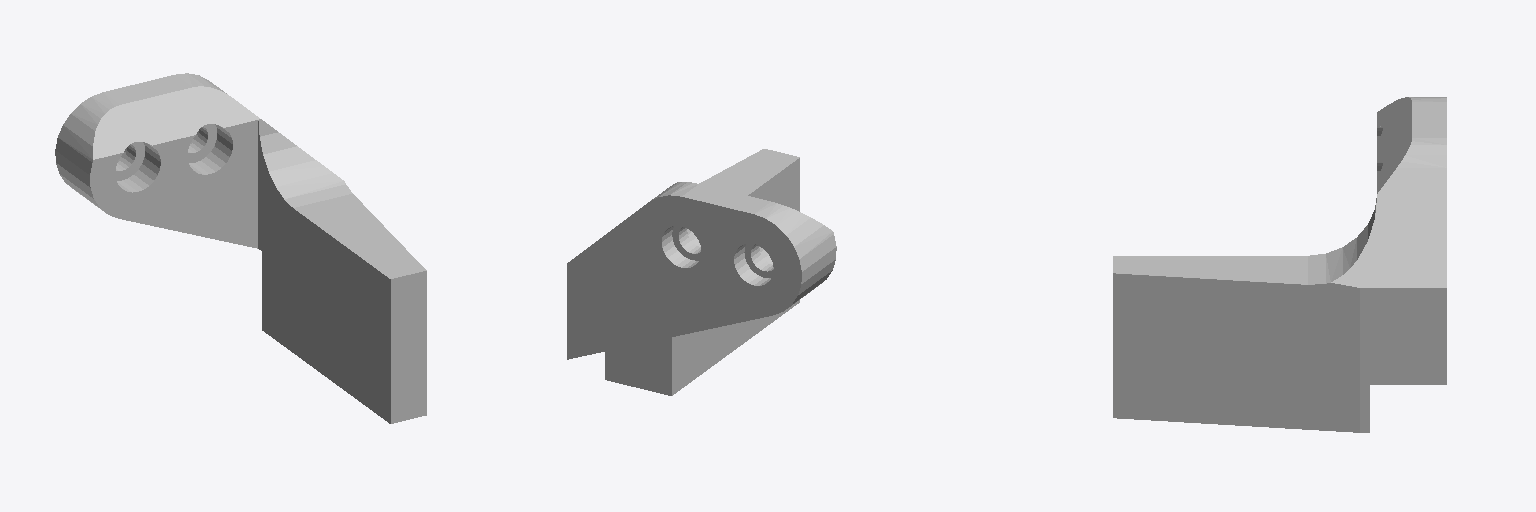
The model's file is wr_finger_right_CRG200_base_jaw_Greifensatz_Greifensatz.obj.
The picture shows the model from 3 angles: view 1: azimuth 30°, elevation 25°; view 2: azimuth 150°, elevation 25°; view 3: azimuth 270°, elevation 25°; orthographic projection.
Size of the model in its own units: 0.039 by 0.038 by 0.048.